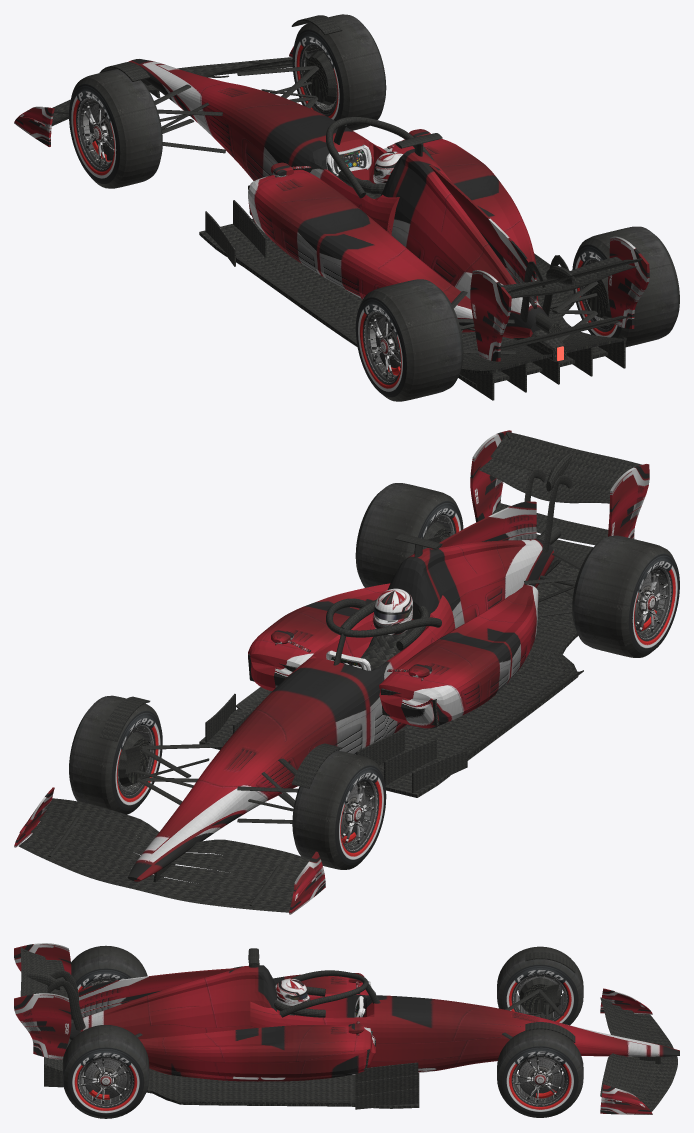
File: f1_car.glb
The picture shows the model from 3 angles, top to bottom: view 1: azimuth 30°, elevation 25°; view 2: azimuth 150°, elevation 25°; view 3: azimuth 270°, elevation 25°; orthographic projection. The views are drawn at different scales.
Parts seen in each view (by area): view 1: sidepods_engine_cover, underfloor_venturi_diffuser, monocoque_nose, tire_tread_rl, rear_wing_endplates, tire_tread_fl, tire_tread_rr, tire_tread_fr, suspension_wishbones, rear_wing_mainplane, tire_sidewall_rl, tire_sidewall_fl (+13 smaller); view 2: sidepods_engine_cover, monocoque_nose, front_wing_assembly, underfloor_venturi_diffuser, tire_tread_rl, tire_tread_rr, rear_wing_mainplane, tire_tread_fl, tire_tread_fr, rear_wing_endplates, drs_upper_flap, suspension_wishbones (+12 smaller); view 3: sidepods_engine_cover, monocoque_nose, underfloor_venturi_diffuser, front_wing_assembly, rear_wing_endplates, tire_tread_rr, tire_tread_fr, tire_sidewall_rr, tire_sidewall_fr, front_wing_endplates, tire_tread_rl, tire_tread_fl (+15 smaller).
Boxes of the visible parts, x1,y1,x2,y2 form: sidepods_engine_cover: [248, 139, 548, 338]; underfloor_venturi_diffuser: [199, 200, 626, 400]; monocoque_nose: [128, 59, 399, 234]; tire_tread_rl: [360, 279, 463, 401]; rear_wing_endplates: [470, 236, 649, 361]; tire_tread_fl: [71, 69, 162, 188]; tire_tread_rr: [576, 226, 679, 347]; tire_tread_fr: [294, 14, 386, 130]; suspension_wishbones: [154, 65, 598, 354]; rear_wing_mainplane: [478, 255, 636, 350]; tire_sidewall_rl: [355, 297, 406, 397]; tire_sidewall_fl: [69, 84, 120, 183]; sidepods_engine_cover: [248, 501, 554, 728]; monocoque_nose: [128, 595, 455, 881]; front_wing_assembly: [18, 798, 322, 912]; underfloor_venturi_diffuser: [199, 525, 583, 797]; tire_tread_rl: [572, 535, 675, 657]; tire_tread_rr: [355, 483, 458, 587]; rear_wing_mainplane: [479, 452, 611, 563]; tire_tread_fl: [292, 750, 383, 869]; tire_tread_fr: [69, 695, 160, 814]; rear_wing_endplates: [470, 430, 649, 538]; drs_upper_flap: [490, 431, 642, 487]; suspension_wishbones: [134, 536, 581, 823]; sidepods_engine_cover: [69, 965, 375, 1081]; monocoque_nose: [250, 994, 679, 1074]; underfloor_venturi_diffuser: [44, 1019, 419, 1109]; front_wing_assembly: [600, 997, 677, 1111]; rear_wing_endplates: [14, 943, 71, 1059]; tire_tread_rr: [62, 1025, 149, 1118]; tire_tread_fr: [497, 1029, 583, 1117]; tire_sidewall_rr: [67, 1047, 144, 1116]; tire_sidewall_fr: [502, 1046, 578, 1115]; front_wing_endplates: [600, 988, 652, 1114]; tire_tread_rl: [71, 945, 147, 1019]; tire_tread_fl: [497, 946, 583, 1025].
Bounding box in the file's own units: 1.99 × 1.06 × 5.52.
10 materials, 10 textured.
